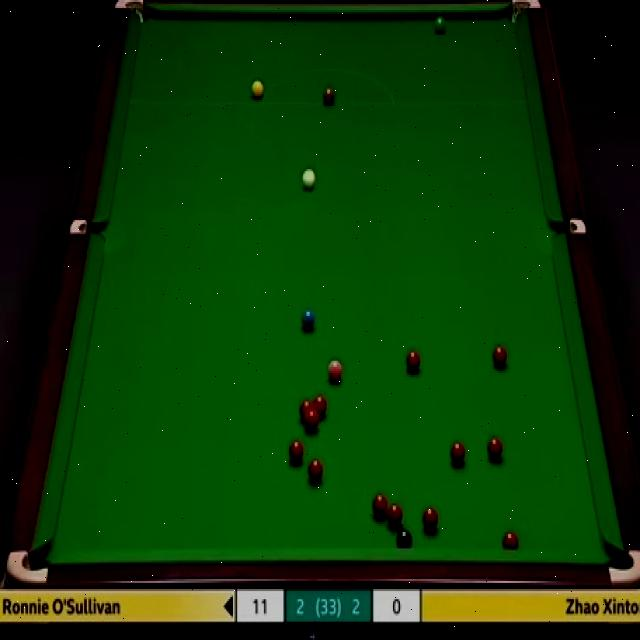black-ball: (396, 528, 414, 550)
blue-ball: (300, 308, 316, 333)
brown-ball: (321, 84, 335, 107)
green-ball: (432, 15, 448, 35)
pink-ball: (328, 355, 343, 383)
red-ball: (386, 501, 404, 532), (306, 460, 324, 489), (421, 506, 438, 534), (406, 347, 422, 376), (372, 492, 388, 519), (487, 436, 503, 462), (290, 438, 306, 464), (450, 441, 466, 466), (492, 343, 507, 369), (313, 395, 328, 420), (503, 529, 519, 550), (305, 412, 319, 432), (300, 399, 313, 420)
white-ball: (300, 169, 318, 196)
yellow-ball: (249, 78, 264, 99)
